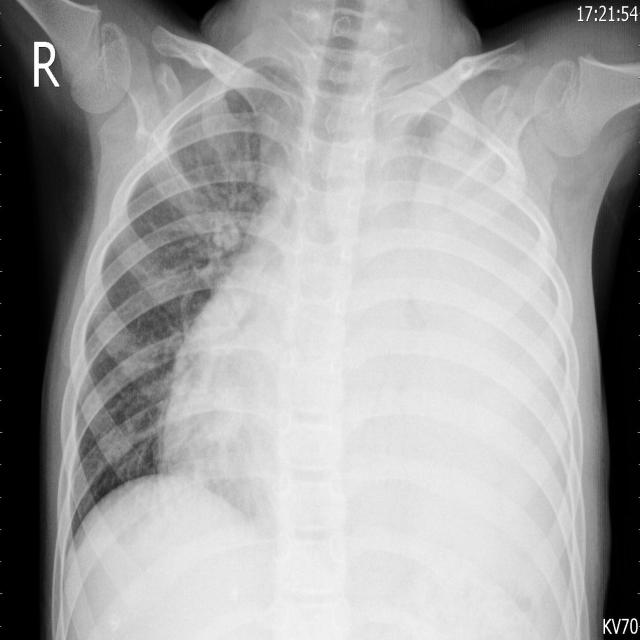high-pneumonia: (412, 108, 564, 494)
low-pneumonia: (172, 135, 262, 293)
